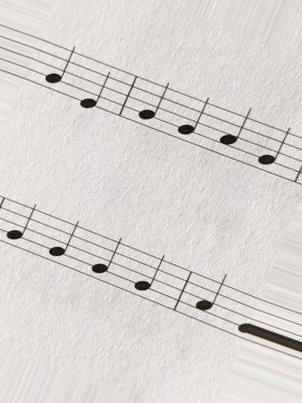A: (192, 268, 230, 334), (216, 104, 253, 168)
E: (79, 56, 111, 116)
G: (254, 119, 297, 185), (128, 248, 171, 312), (87, 231, 127, 290), (135, 74, 170, 137), (3, 197, 40, 256), (44, 214, 80, 272), (176, 91, 210, 151), (42, 36, 73, 98)
